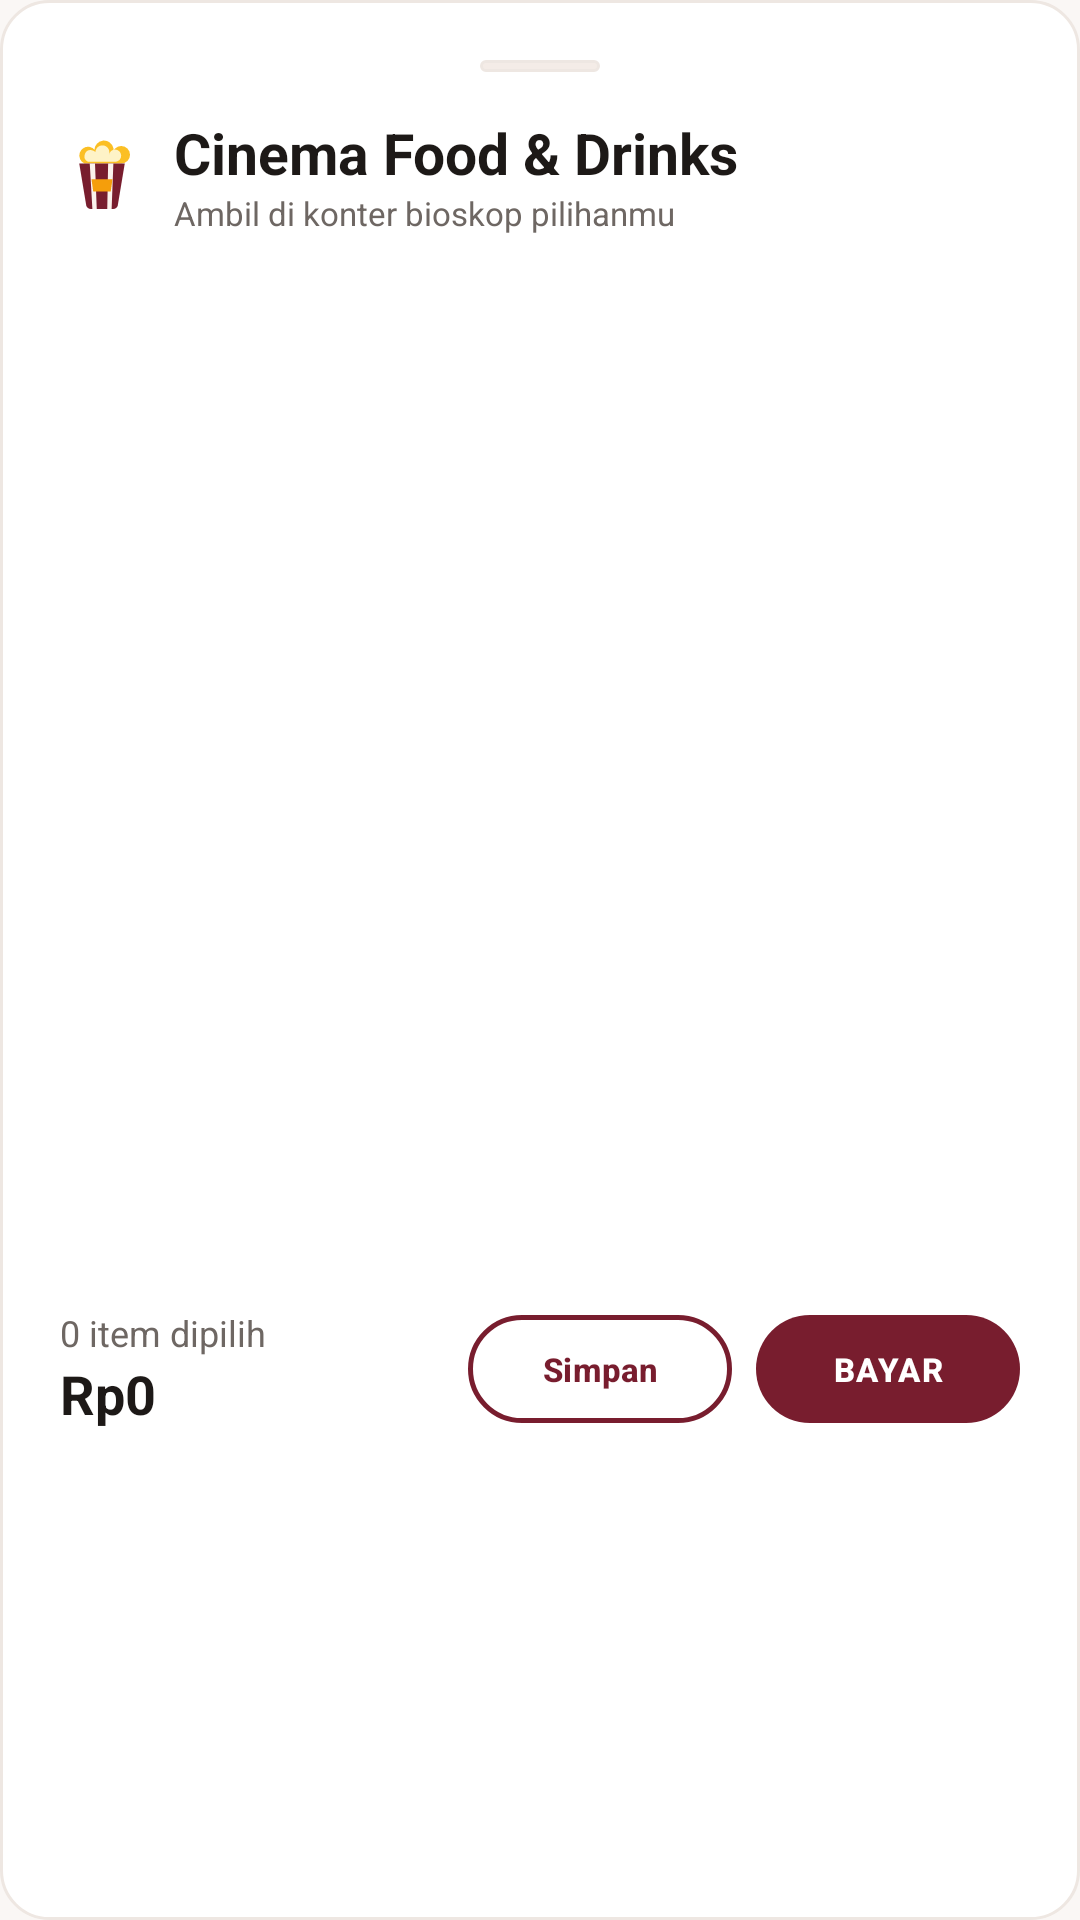

Icons on this 1080px×1920px Android screen, each with the point to tap as (x=x, y=y):
popcorn: (x=104, y=174)
